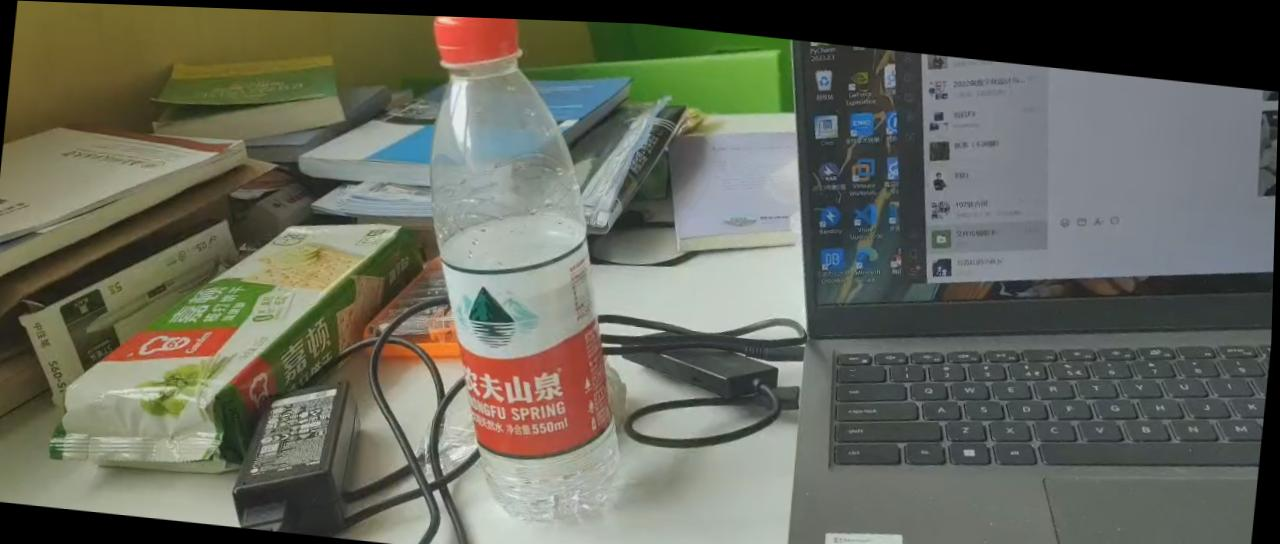plastic: (379, 15, 680, 542)
